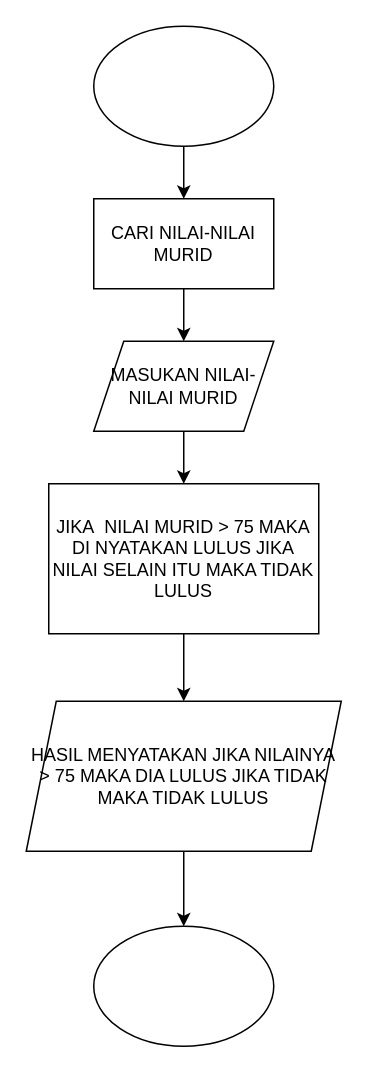
The diagram is 368 pixels wide and 1073 high, and some of its shapes have lost their labels. The centre of each missing label's shape, as x and y in pixels:
"FINISH" belongs at [183,985].
"START" belongs at [183,85].
